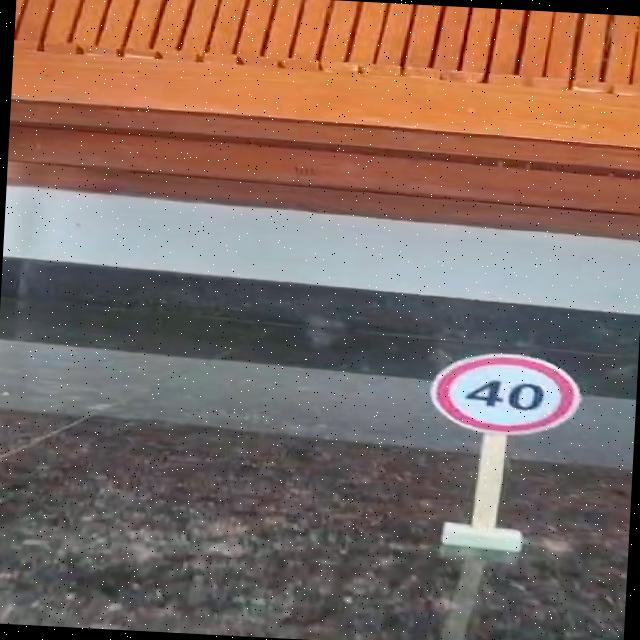Speed40: (422, 345, 592, 444)
